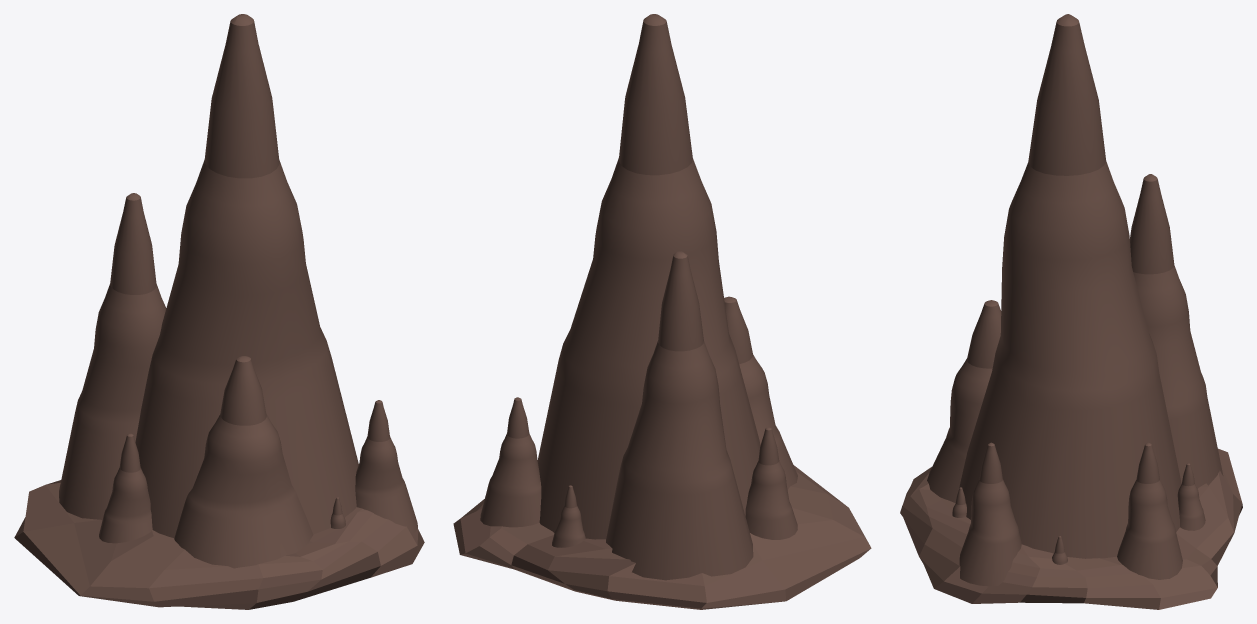
The model's file is Stalagmite_Cluster.fbx.
The picture shows the model from 3 angles, left to right: view 1: azimuth 30°, elevation 25°; view 2: azimuth 150°, elevation 25°; view 3: azimuth 270°, elevation 25°; orthographic projection.
Parts seen in each view (by area): view 1: Stalagmite_Cluster; view 2: Stalagmite_Cluster; view 3: Stalagmite_Cluster.
Boxes of the visible parts, x1,y1,x2,y2 form: Stalagmite_Cluster: [14, 14, 424, 609]; Stalagmite_Cluster: [453, 14, 871, 609]; Stalagmite_Cluster: [900, 14, 1242, 609].
Size of the model in its own units: 2.59 by 2.22 by 3.75.
